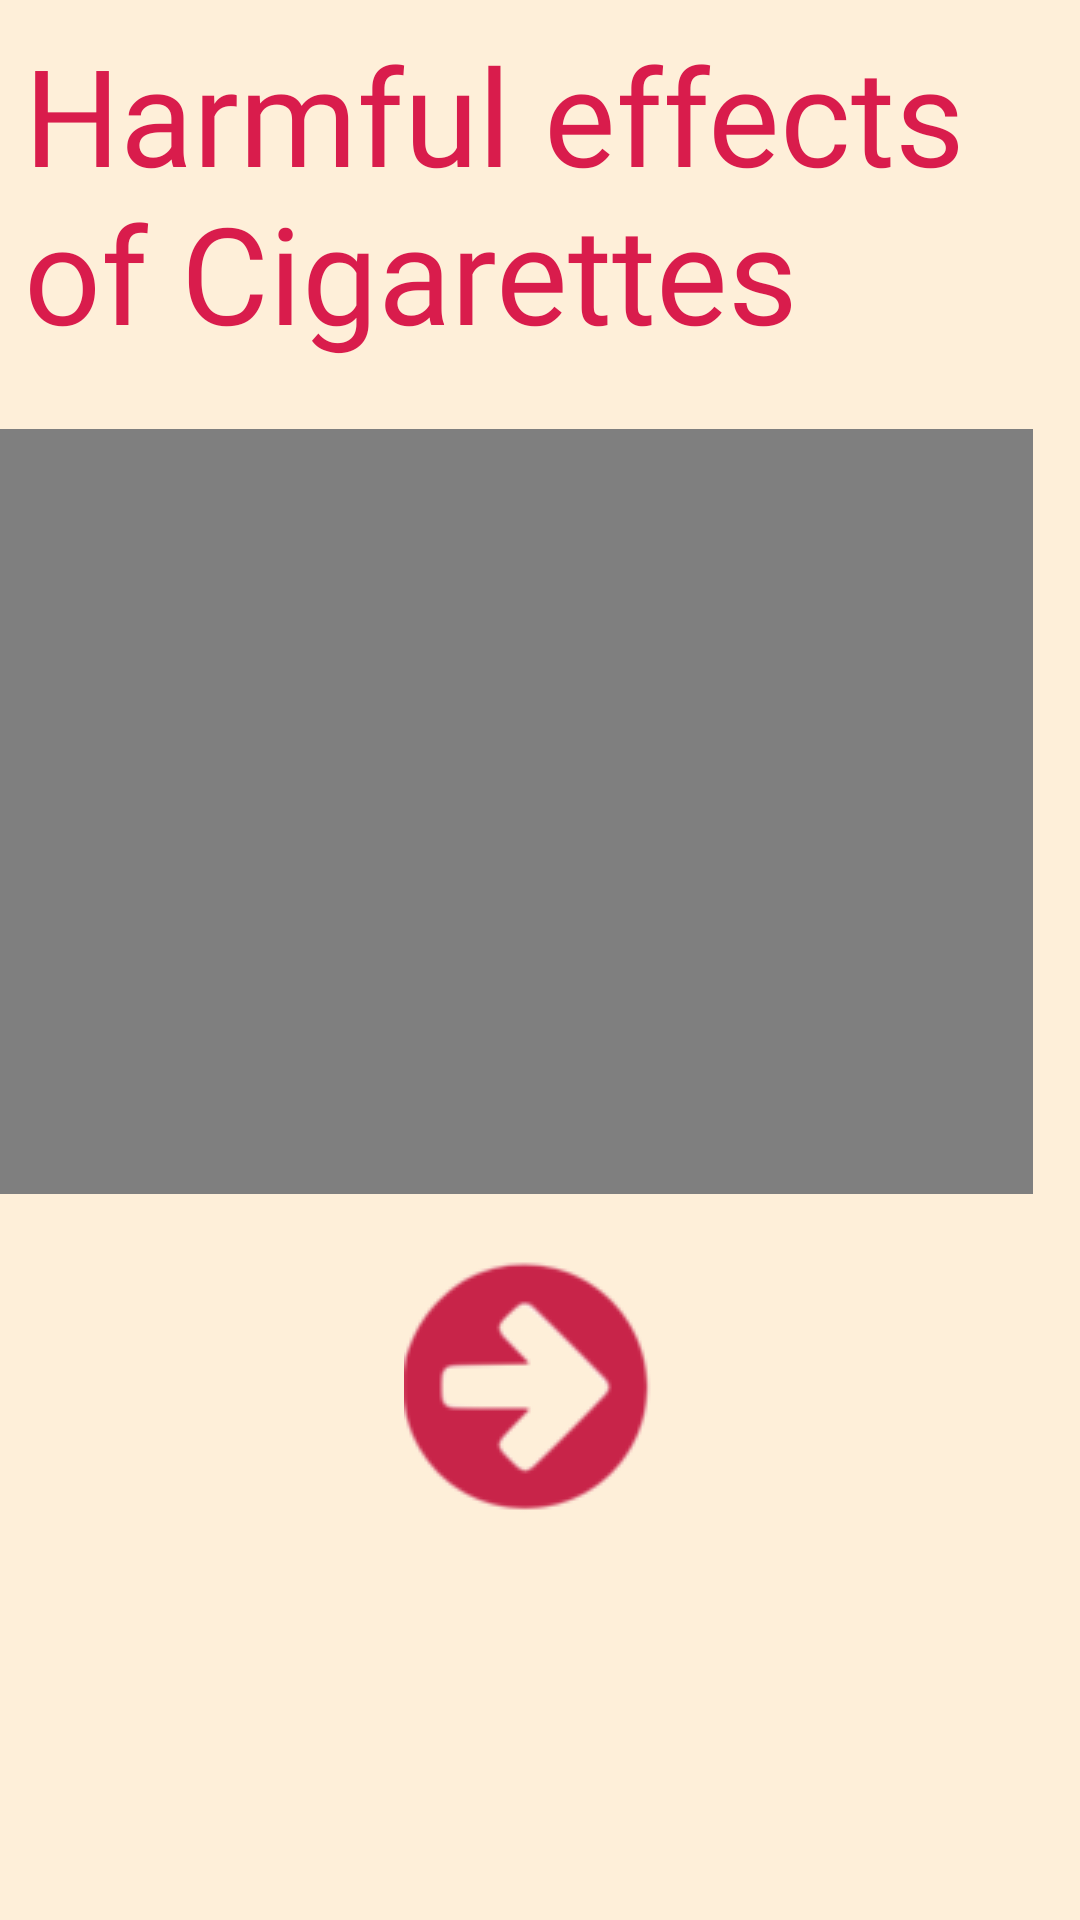

Icon click points for this 1080x1920 phone screenshot, format (x=x, y=y):
next: (x=526, y=1386)
